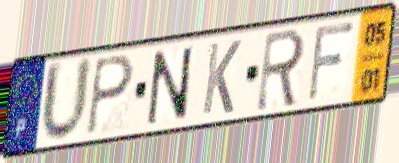F: (305, 18, 358, 106)
K: (199, 38, 244, 117)
N: (145, 45, 194, 129)
P: (85, 53, 135, 139)
R: (253, 26, 308, 115)
U: (38, 53, 94, 146)
